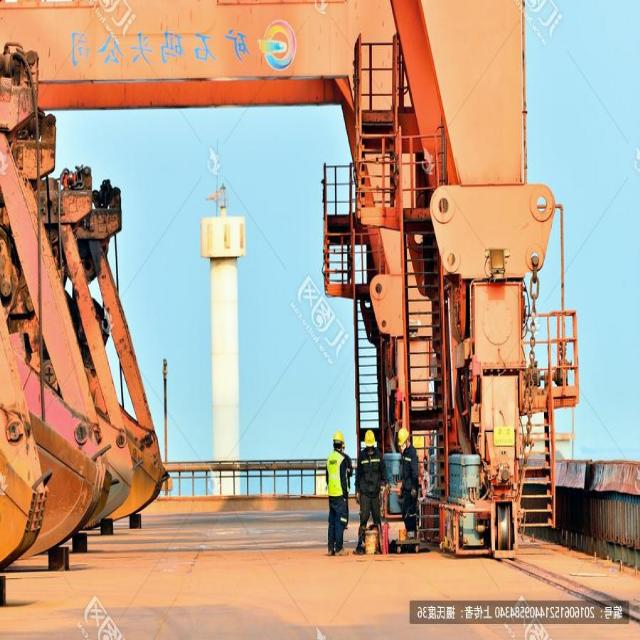Reflective-Jacket: (324, 449, 350, 499), (359, 448, 382, 493), (401, 446, 422, 493)
Safety-Helmet: (363, 429, 377, 446), (396, 426, 409, 444), (332, 428, 346, 443)
